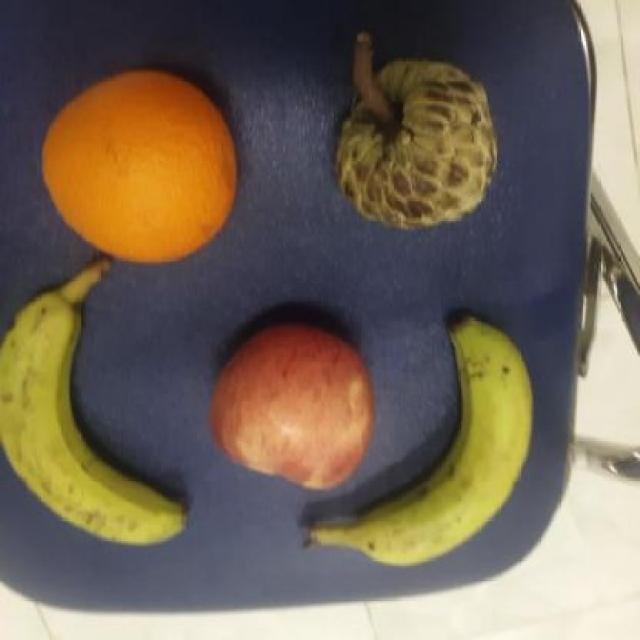apple: (210, 319, 375, 493)
banana: (300, 311, 534, 568), (0, 267, 188, 548)
oren: (36, 70, 239, 265)
sugar apple: (334, 59, 497, 233)
